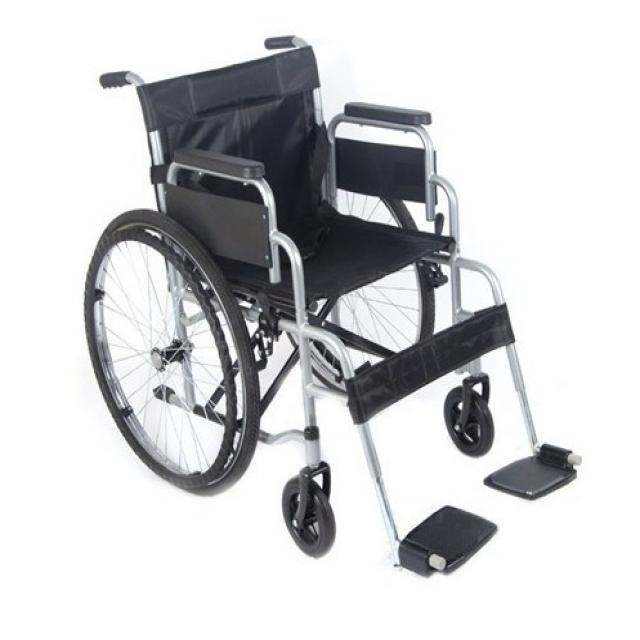wheelchair: (72, 26, 594, 594)
